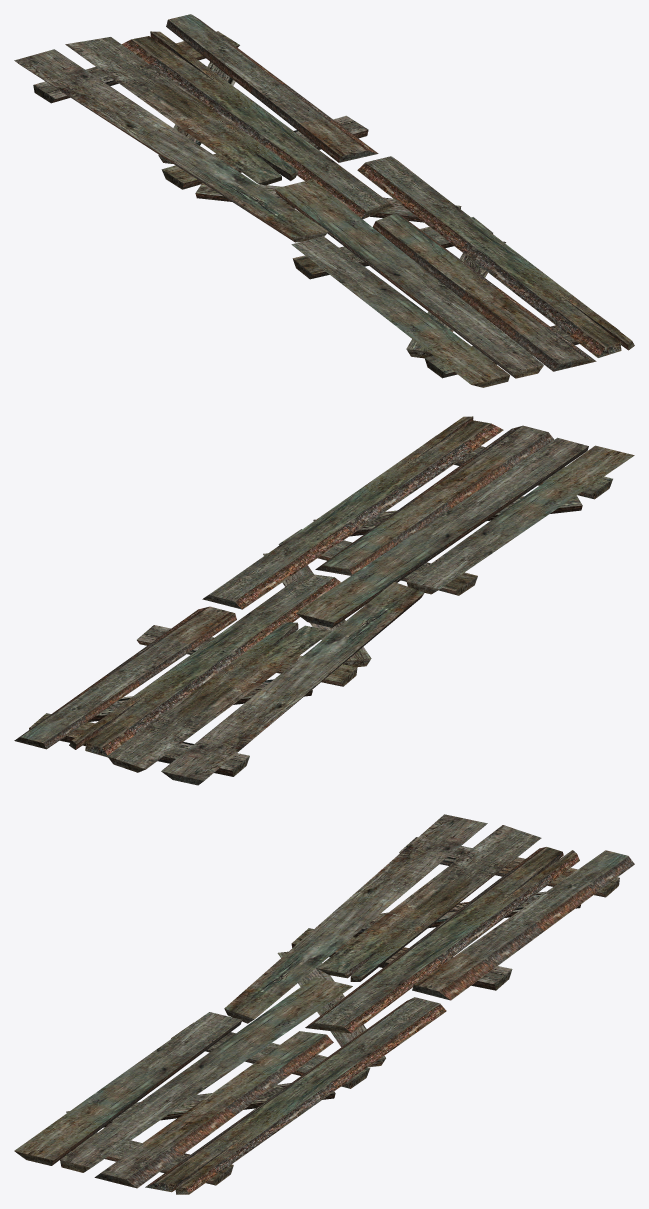
File: WoodModel.FBX
The picture shows the model from 3 angles, top to bottom: view 1: azimuth 30°, elevation 25°; view 2: azimuth 150°, elevation 25°; view 3: azimuth 330°, elevation 25°; orthographic projection.
Visible parts, largest first — view 1: WoodModel; view 2: WoodModel; view 3: WoodModel.
Boxes of the visible parts, left/top/right/bottom form: WoodModel: left=14, top=14, right=634, bottom=387; WoodModel: left=14, top=416, right=634, bottom=785; WoodModel: left=14, top=814, right=634, bottom=1194.
Size of the model in its own units: 42.15 by 3.75 by 158.
